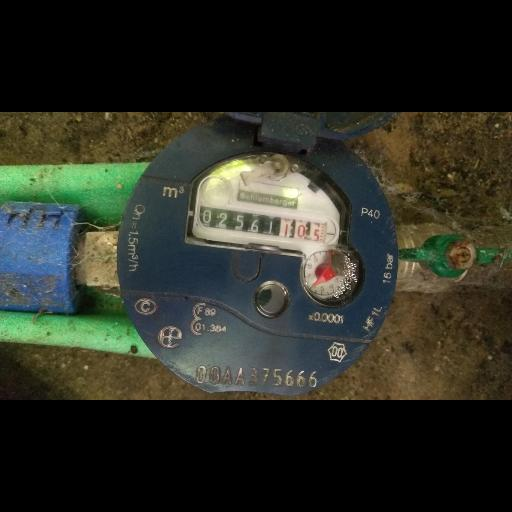0: (197, 206, 215, 228), (293, 219, 309, 239)
1: (260, 215, 280, 236), (277, 218, 295, 238)
2: (212, 208, 232, 230)
5: (307, 222, 326, 242), (230, 211, 248, 232)
6: (245, 213, 263, 234)
border_water_meter_number: (195, 199, 338, 247)
